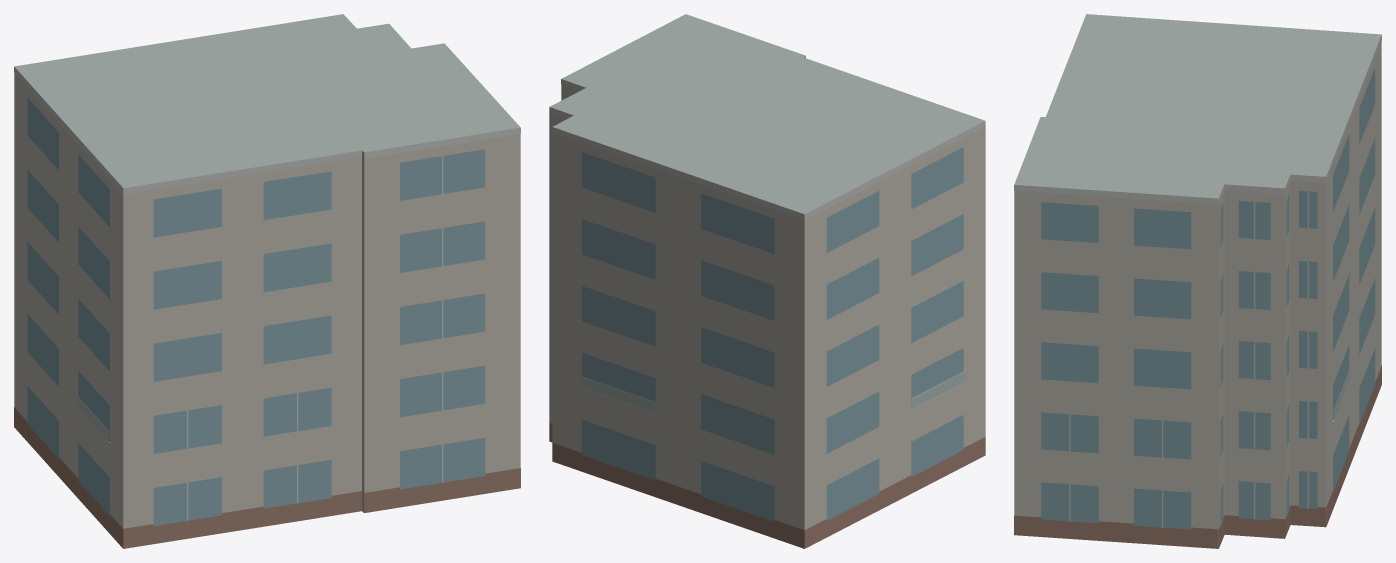
File: survey-upis-32750002.glb
The picture shows the model from 3 angles, left to right: view 1: azimuth 30°, elevation 25°; view 2: azimuth 150°, elevation 25°; view 3: azimuth 270°, elevation 25°; orthographic projection. The views are drawn at different scales.
Parts seen in each view (by area): view 1: survey-upis-32750002.tmp; view 2: survey-upis-32750002.tmp; view 3: survey-upis-32750002.tmp.
Boxes of the visible parts, x1=… form: survey-upis-32750002.tmp: x1=14, y1=14, x2=520, y2=548; survey-upis-32750002.tmp: x1=549, y1=14, x2=985, y2=548; survey-upis-32750002.tmp: x1=1014, y1=14, x2=1381, y2=548.
Bounding box in the file's own units: 15.71 × 13.9 × 13.23.
